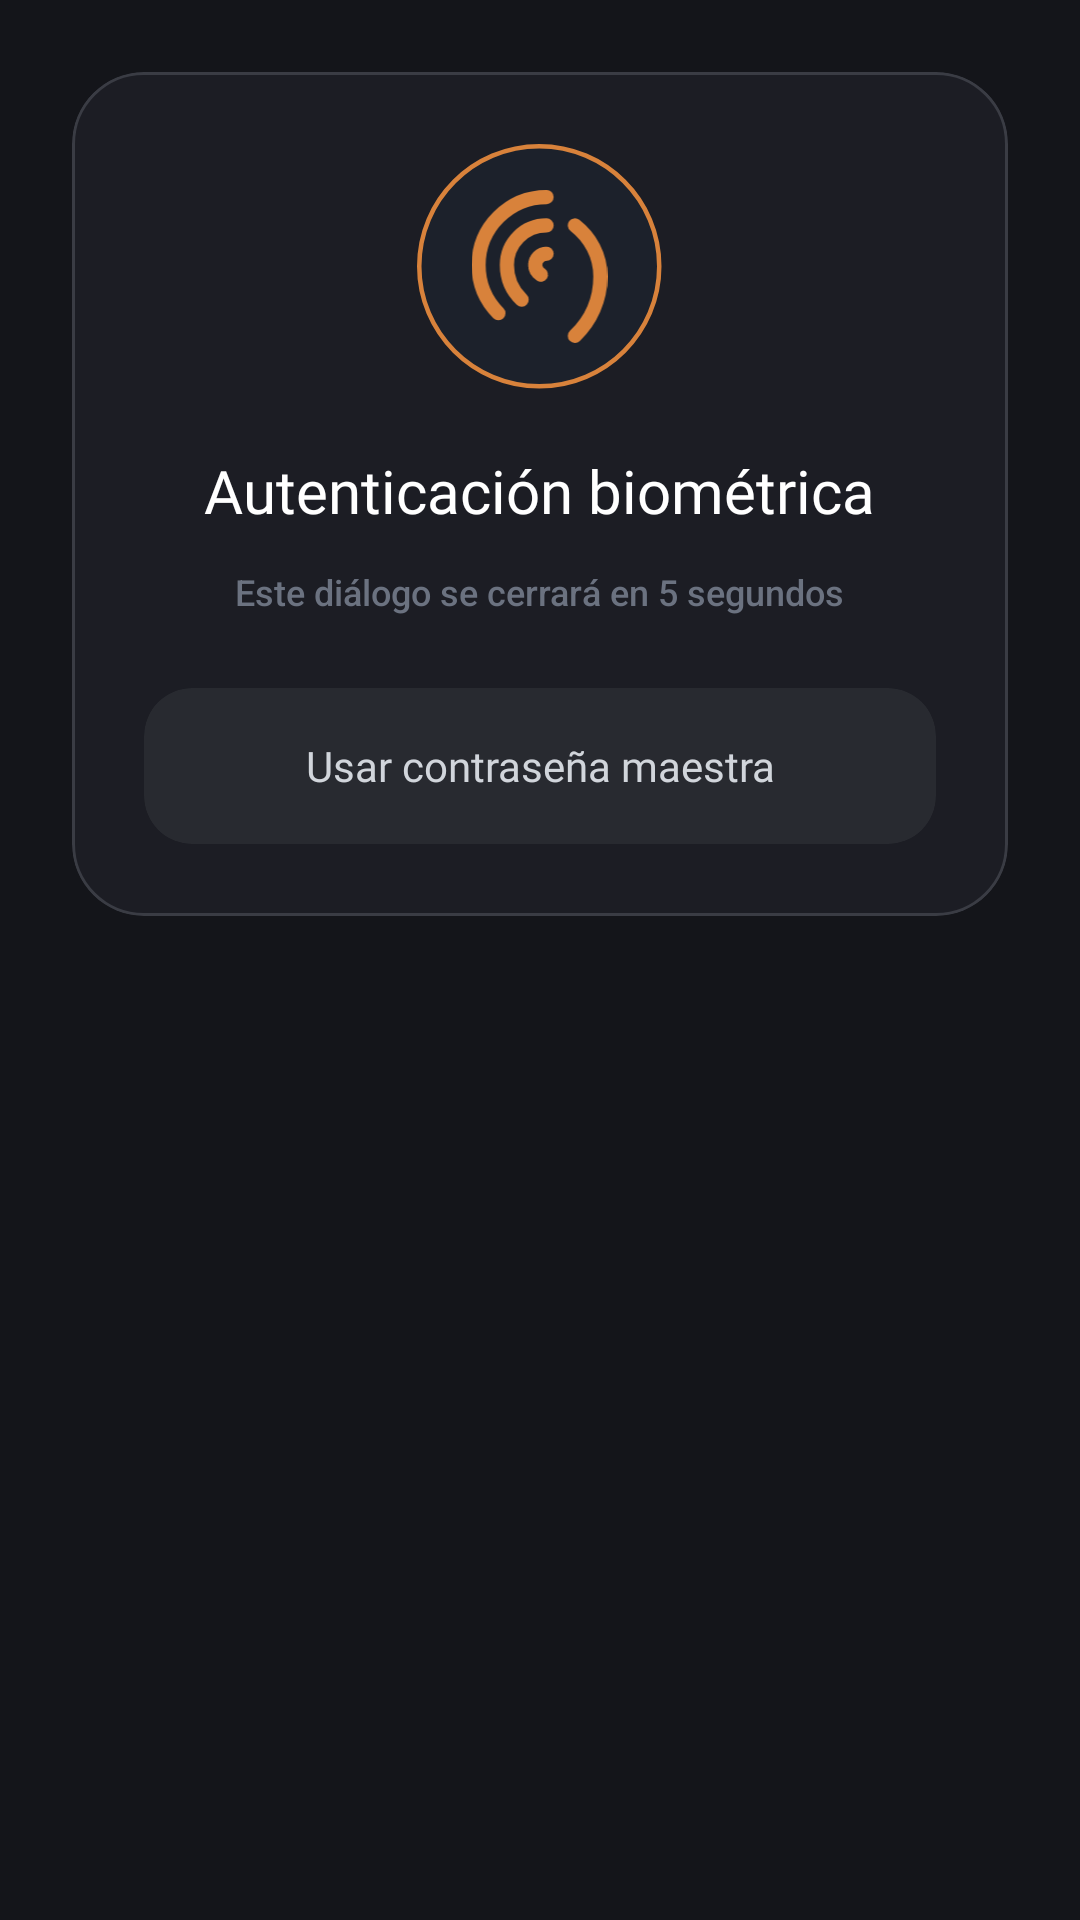

Named icons in this screenshot (1080x1920) and their centers, [x,y]:
biometric waves: [540,266]
